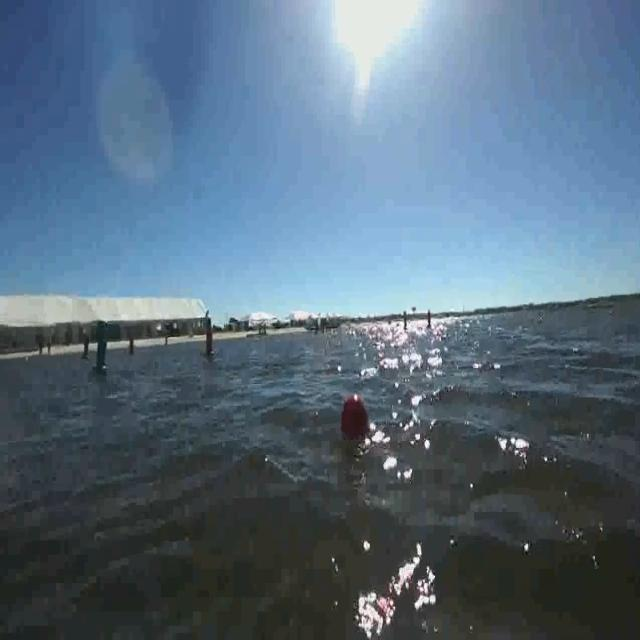green-column-buoy: (94, 319, 112, 374), (80, 329, 92, 360)
red-buoy: (338, 392, 373, 441)
red-column-buoy: (202, 320, 216, 360), (129, 334, 137, 357)
